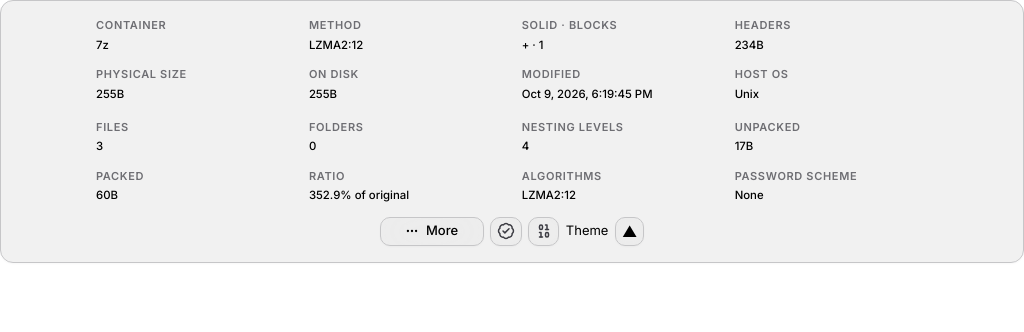
Test: elementIds › should_expose_overview_card_and_meta_ids
Expected: the element that starts with "Container" is shown, [96,18,857,202]
Expected: the button "▲" is shown, [615,216,644,246]
// Extras use stable per-index ids inside the single extras grid.
What coordinates should you click on to do the following:
click the button "More"
I would click on:
 (432, 231)
Its box is [380,216,484,246].
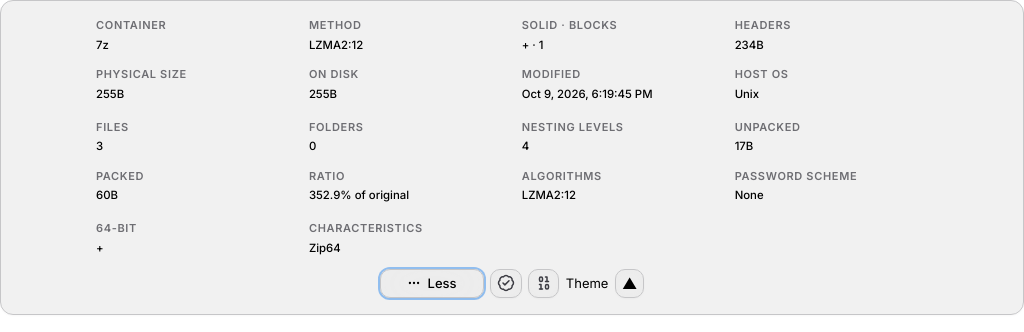
Result: the element showing "64-bit +" is shown at [96,221,137,255]
